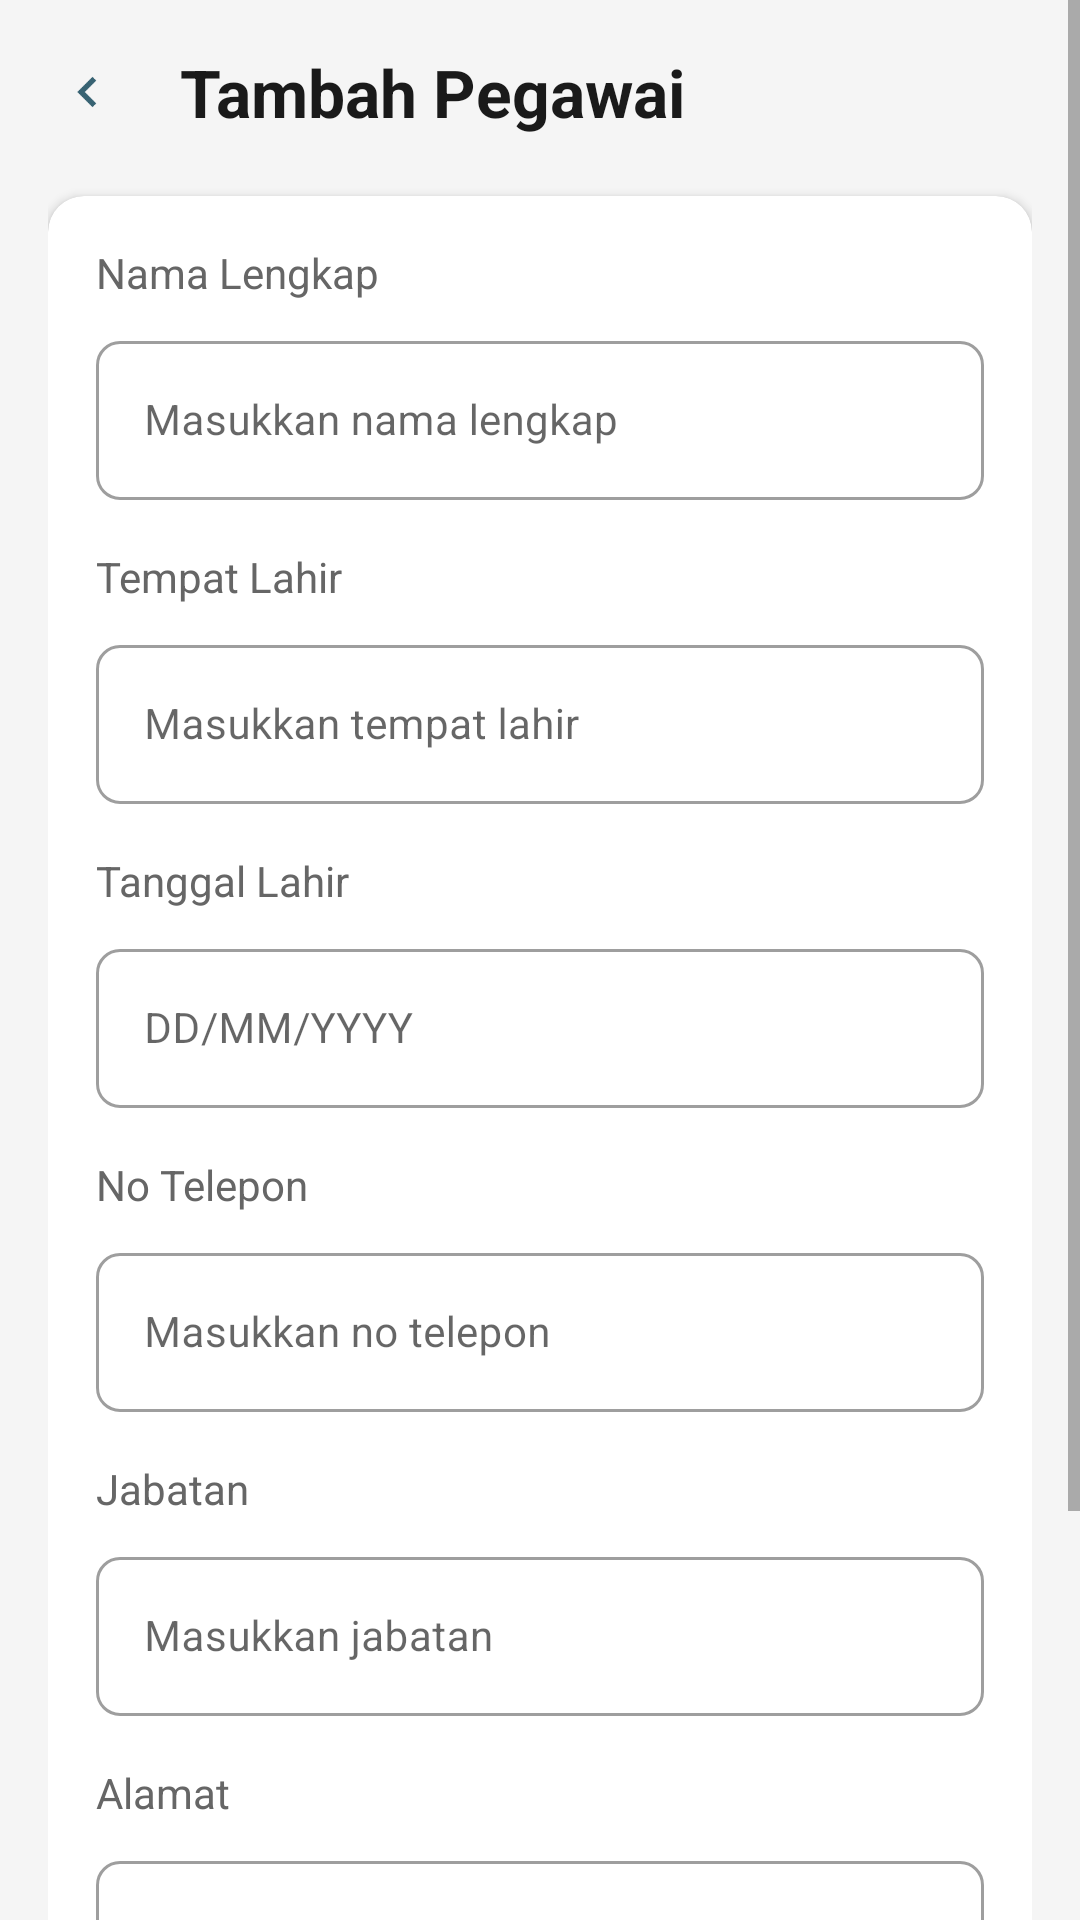

Named icons in this screenshot (1080×1920) and their centers, point (x, y):
Kembali: point (86, 92)
